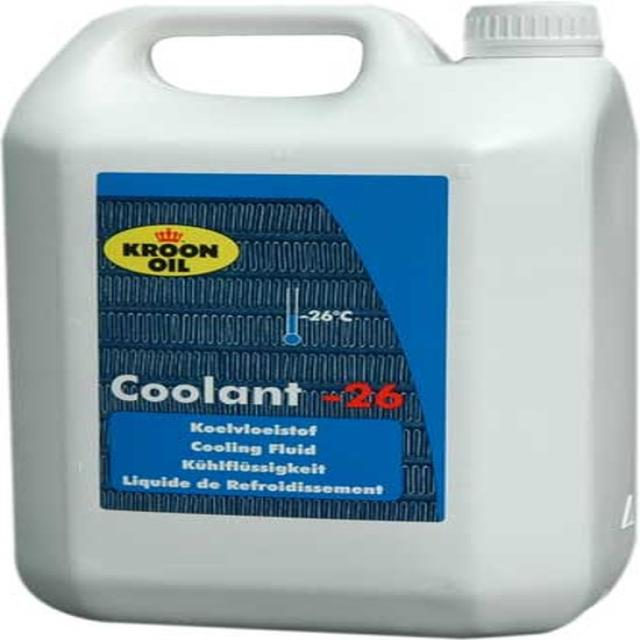coolant: (2, 0, 635, 635)
